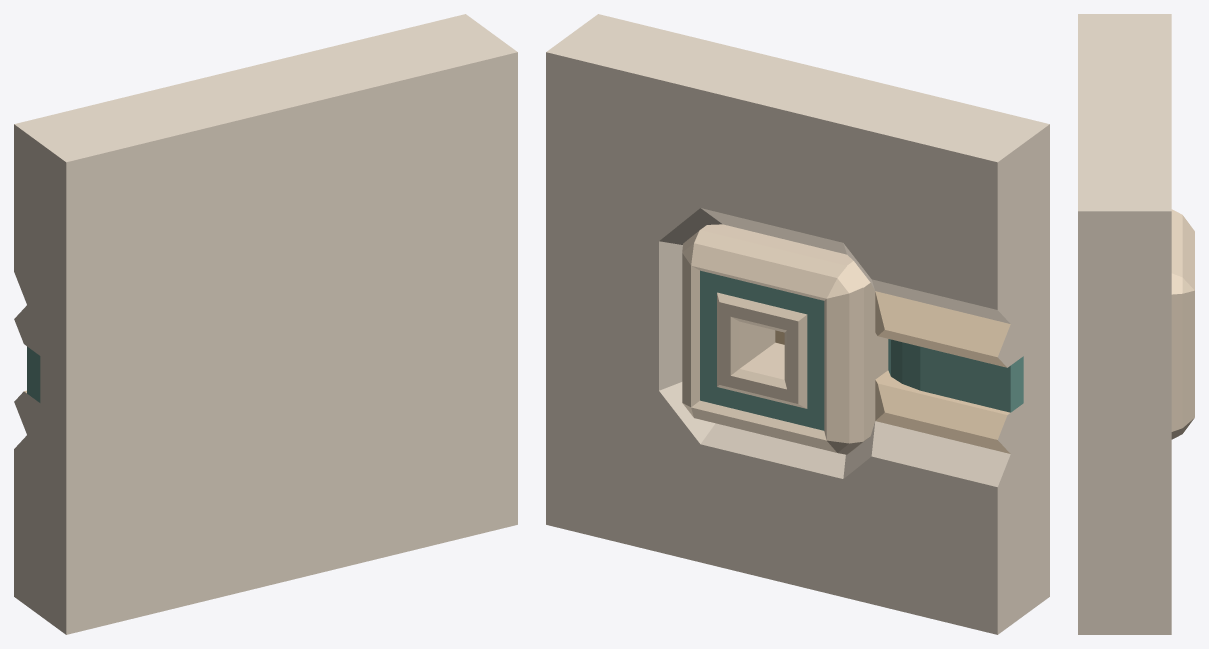
Rendered from Puzzle_Wall_Conduit_Keyhole_End.glb.
3 renders of one model, left to right at view 1: azimuth 30°, elevation 25°; view 2: azimuth 150°, elevation 25°; view 3: azimuth 270°, elevation 25°, orthographic. The views are drawn at different scales.
Visible parts, largest first — view 1: Puzzle_Wall_Conduit_Keyhole_End; view 2: Puzzle_Wall_Conduit_Keyhole_End; view 3: Puzzle_Wall_Conduit_Keyhole_End.
Part boxes in pixels (x1=…): Puzzle_Wall_Conduit_Keyhole_End: x1=14, y1=14, x2=517, y2=634; Puzzle_Wall_Conduit_Keyhole_End: x1=546, y1=14, x2=1049, y2=634; Puzzle_Wall_Conduit_Keyhole_End: x1=1078, y1=14, x2=1194, y2=634.
Size of the model in its own units: 1 by 1 by 0.25.
